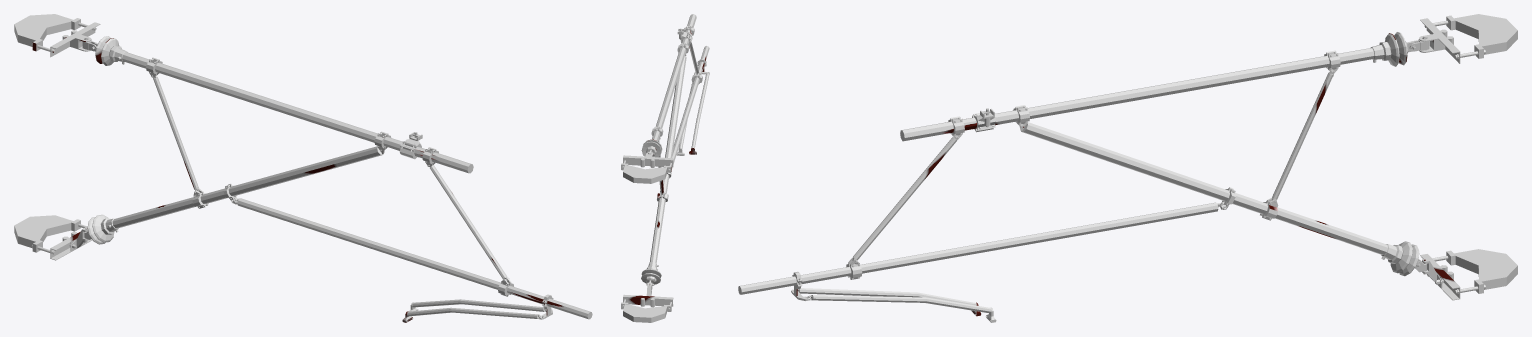
Rendered from Bracket2a23.obj.
3 renders of one model, left to right at view 1: azimuth 30°, elevation 25°; view 2: azimuth 150°, elevation 25°; view 3: azimuth 270°, elevation 25°, orthographic. The views are drawn at different scales.
Visible parts, largest first — view 1: obj1; view 2: obj1; view 3: obj1.
Boxes of the visible parts, bbox=[...] form: obj1: bbox=[14, 14, 592, 322]; obj1: bbox=[621, 14, 709, 322]; obj1: bbox=[738, 14, 1517, 322].
Size of the model in its own units: 1.47 by 1.2 by 3.27.
1 material, 1 textured.
